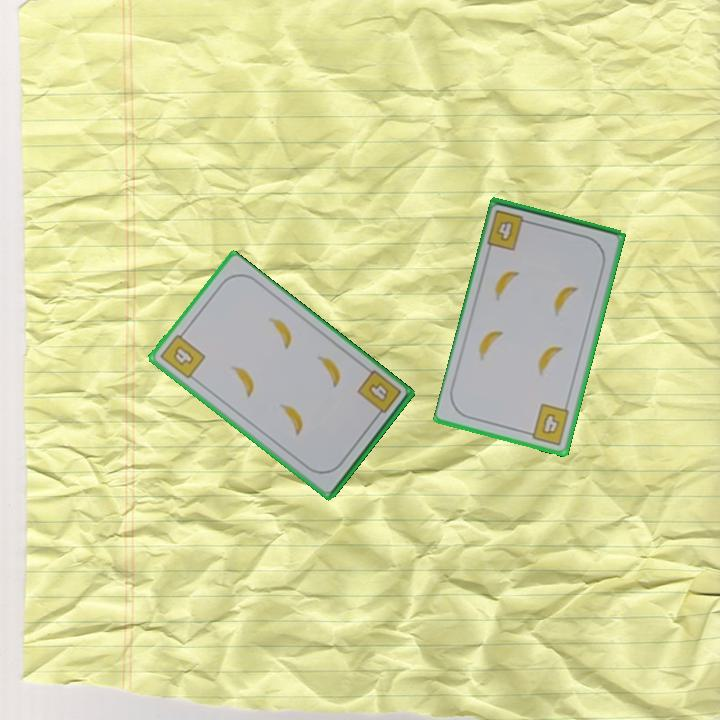4b: (156, 327, 209, 382), (353, 367, 404, 422), (523, 400, 572, 448), (484, 207, 535, 253)
